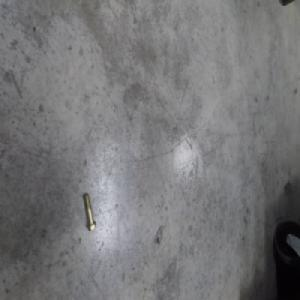Bolt: (83, 190, 96, 231)
